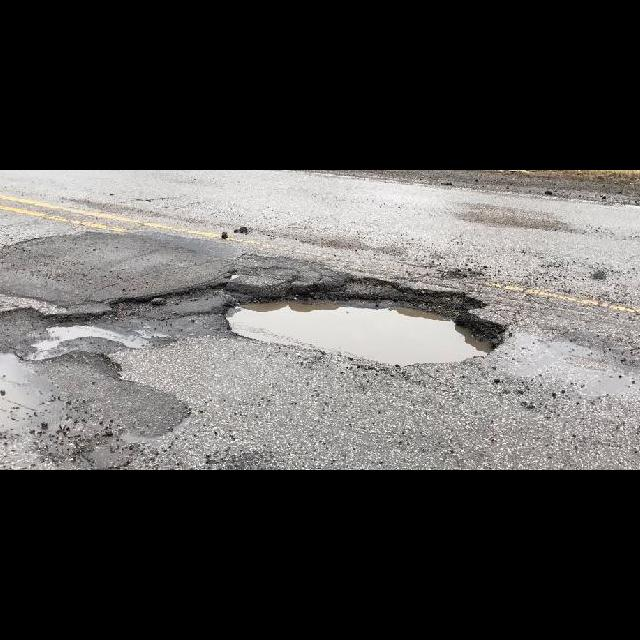lubang_kecil: (205, 264, 506, 379)
